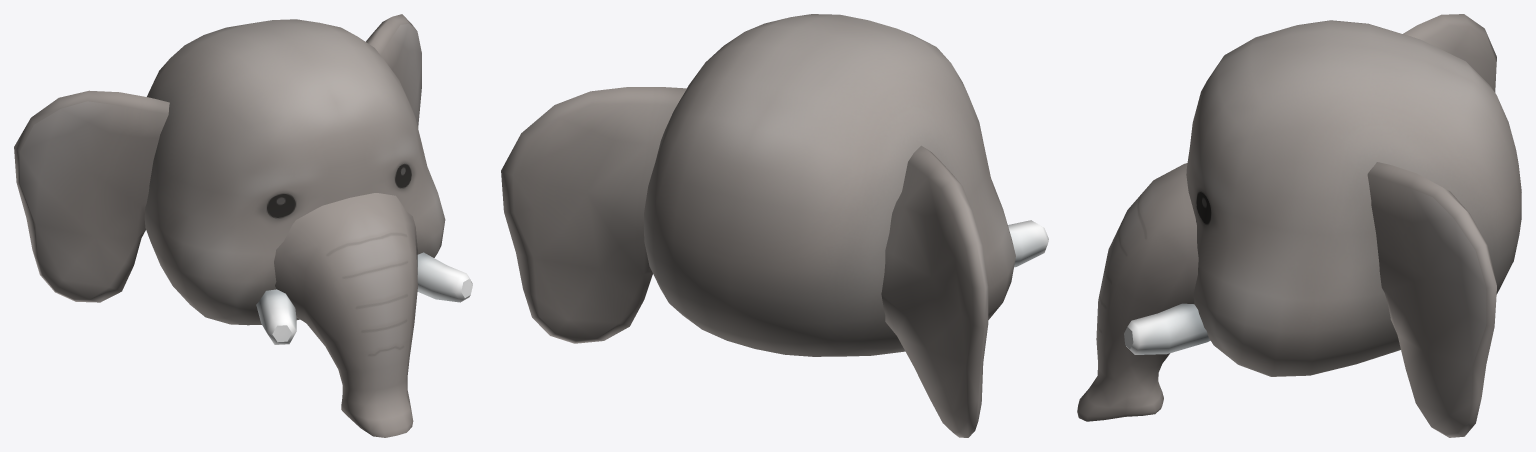
Rendered from elephant.FBX.
3 renders of one model, left to right at view 1: azimuth 30°, elevation 25°; view 2: azimuth 150°, elevation 25°; view 3: azimuth 270°, elevation 25°, orthographic. The views are drawn at different scales.
Parts seen in each view (by area): view 1: elephant; view 2: elephant; view 3: elephant.
Part boxes in pixels (bbox=[...]): elephant: bbox=[14, 14, 472, 437]; elephant: bbox=[501, 14, 1048, 437]; elephant: bbox=[1077, 14, 1521, 437].
Size of the model in its own units: 49.09 by 36.7 by 40.15.
